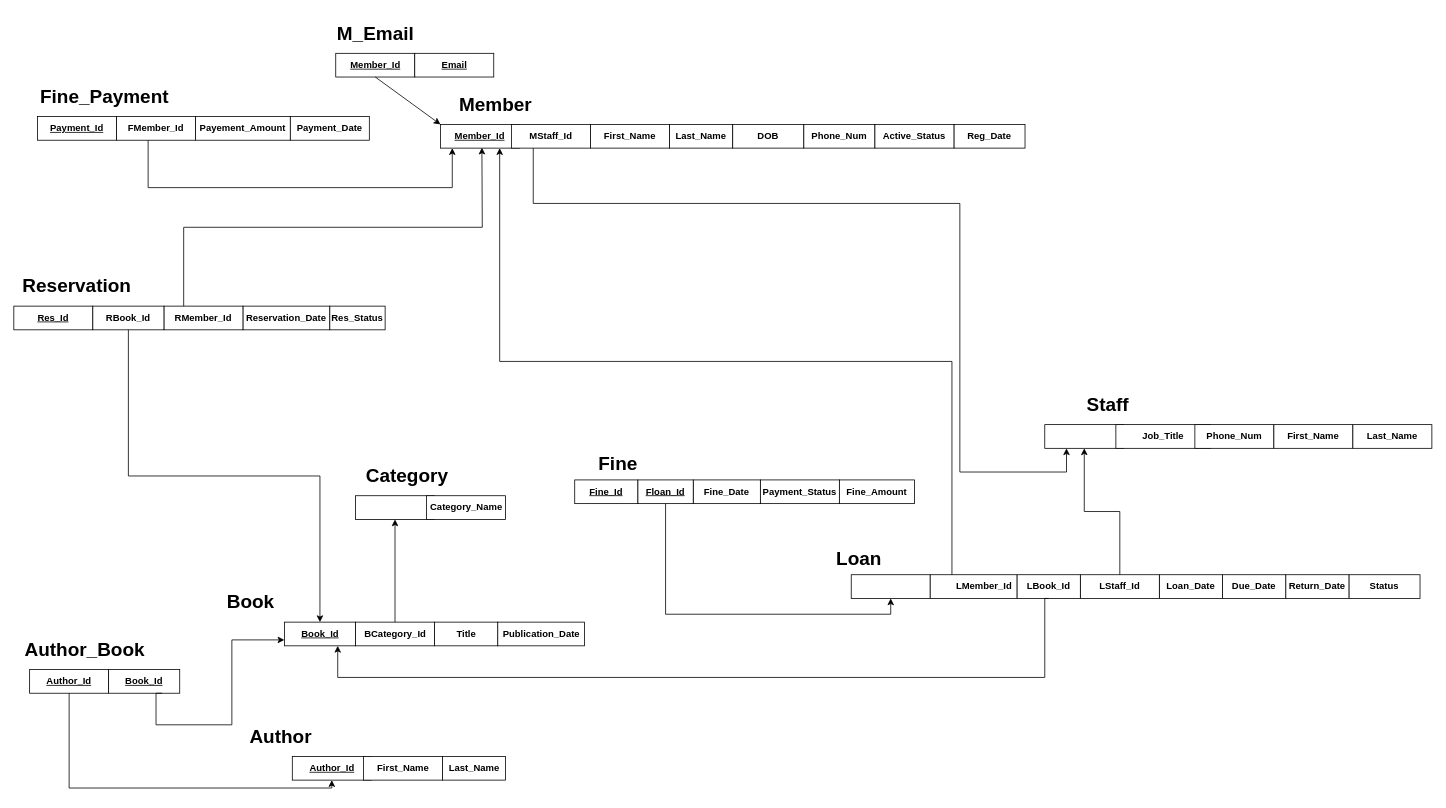
Image size: 1446x808. Some labels were removed from this diagram. The shapes that lost their labels are listed below. From the top down, each one's centre as x and y in pixels, then its label:
(1084,436): Staff_Id
(394,507): Category_Id
(890,586): Loan_Id
